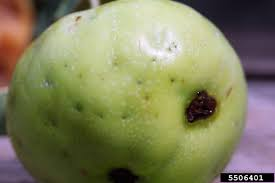damaged_apple: (9, 7, 249, 180)
